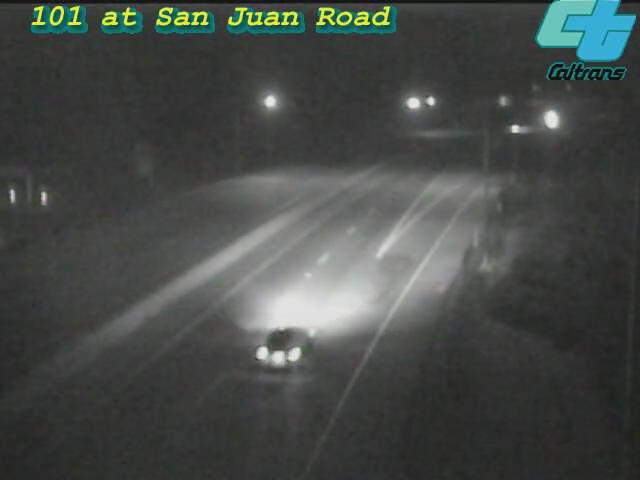vehicle: (230, 296, 340, 406), (491, 104, 541, 154), (527, 93, 577, 143)
